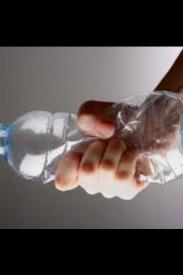Plastic: (0, 81, 182, 193)
